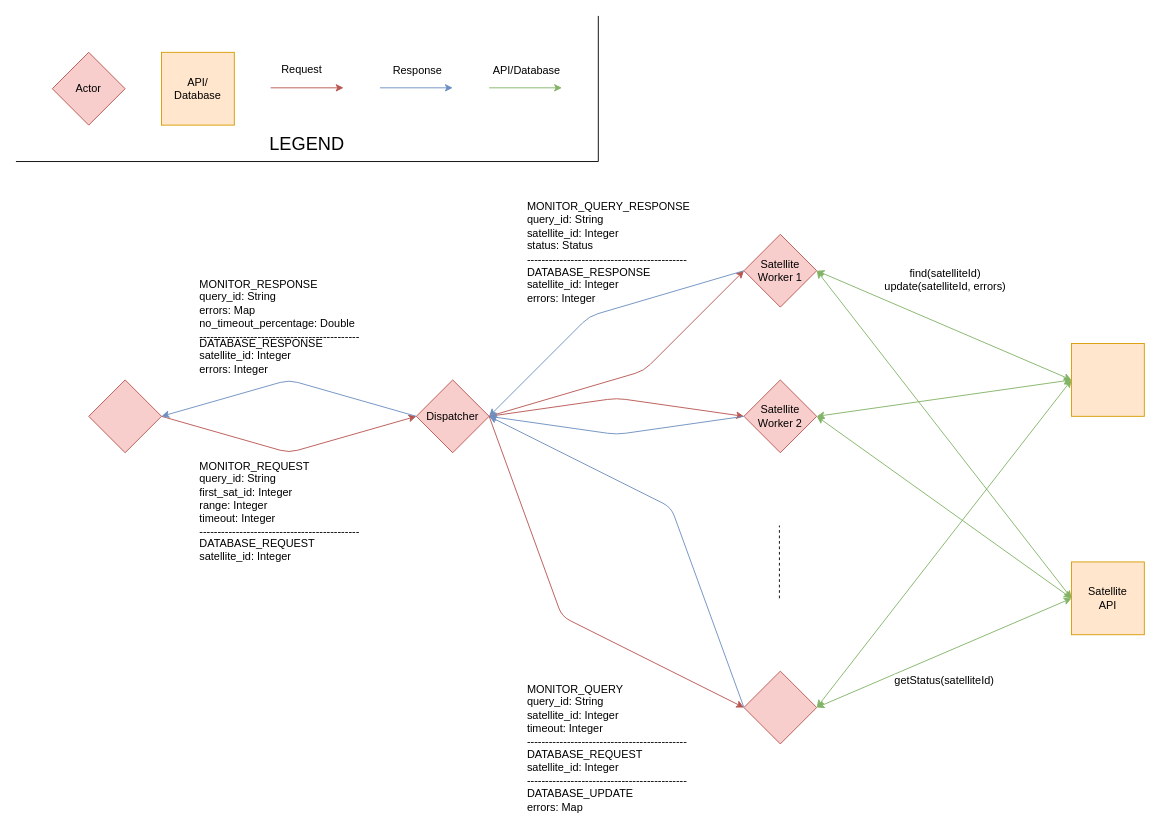
This 1160x830 diagram has some shape labels left out. The centre of each missing label's shape, as x and y in pixels:
"Database" belongs at pixel 1107 379.
"Satellite Worker n" belongs at pixel 780 707.
"Station" belongs at pixel 125 416.
